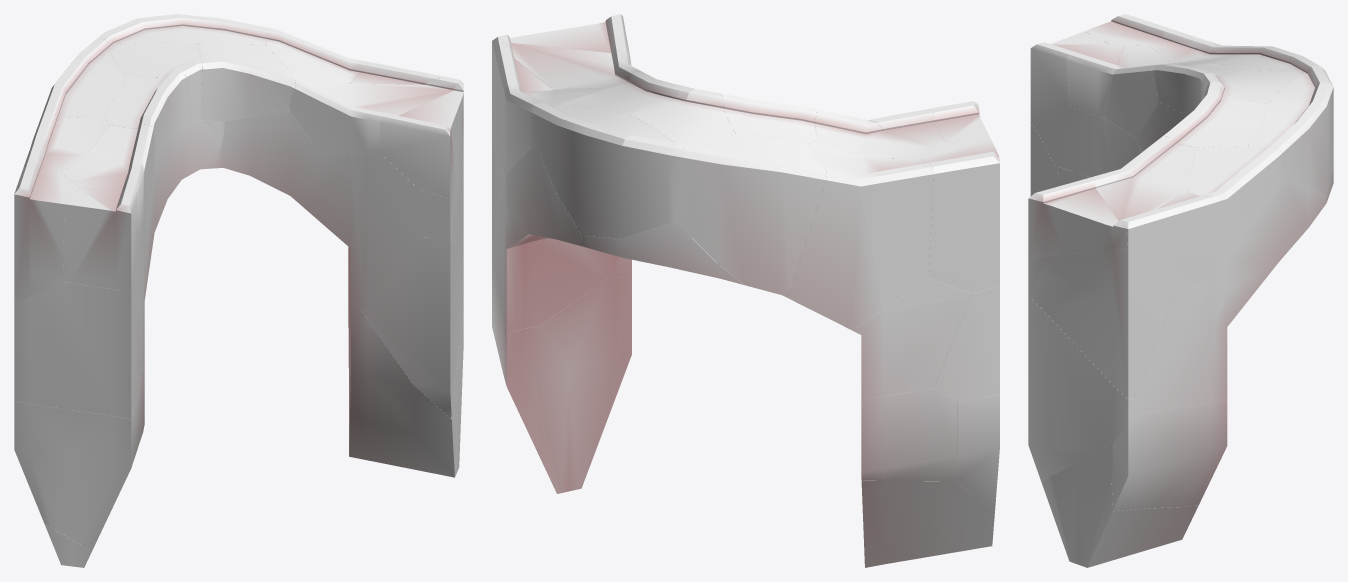
Rendered from BridgeCurveShattered.fbx.
The picture shows the model from 3 angles, left to right: view 1: azimuth 30°, elevation 25°; view 2: azimuth 150°, elevation 25°; view 3: azimuth 270°, elevation 25°; orthographic projection. The views are drawn at different scales.
Parts seen in each view (by area): view 1: bridge_cruve.001_cell.009, bridge_cruve.001_cell.026, bridge_cruve.001_cell.010, bridge_cruve.001_cell.021, bridge_cruve.001_cell.020, bridge_cruve.001_cell.012, bridge_cruve.001_cell.025, bridge_cruve.001_cell.007, bridge_cruve.001_cell.006, bridge_cruve.001_cell.015, bridge_cruve.001_cell, bridge_cruve.001_cell.013 (+14 smaller); view 2: bridge_cruve.001_cell.022, bridge_cruve.001_cell.011, bridge_cruve.001_cell.029, bridge_cruve.001_cell.010, bridge_cruve.001_cell.006, bridge_cruve.001_cell.032, bridge_cruve.001_cell.028, bridge_cruve.001_cell.023, bridge_cruve.001_cell.003, bridge_cruve.001_cell.009, bridge_cruve.001_cell.004, bridge_cruve.001_cell.012 (+15 smaller); view 3: bridge_cruve.001_cell.031, bridge_cruve.001_cell.021, bridge_cruve.001_cell.005, bridge_cruve.001_cell.010, bridge_cruve.001_cell.008, bridge_cruve.001_cell.003, bridge_cruve.001_cell.029, bridge_cruve.001_cell.018, bridge_cruve.001_cell, bridge_cruve.001_cell.004, bridge_cruve.001_cell.012, bridge_cruve.001_cell.027 (+12 smaller).
Part boxes in pixels (x1,y1,x2,y2): bridge_cruve.001_cell.009: [14, 282, 140, 419]; bridge_cruve.001_cell.026: [14, 400, 137, 550]; bridge_cruve.001_cell.010: [348, 287, 463, 477]; bridge_cruve.001_cell.021: [361, 238, 463, 418]; bridge_cruve.001_cell.020: [307, 153, 423, 309]; bridge_cruve.001_cell.012: [288, 73, 463, 155]; bridge_cruve.001_cell.025: [63, 187, 138, 292]; bridge_cruve.001_cell.007: [217, 108, 321, 209]; bridge_cruve.001_cell.006: [14, 163, 78, 303]; bridge_cruve.001_cell.015: [198, 43, 295, 122]; bridge_cruve.001_cell: [380, 82, 463, 198]; bridge_cruve.001_cell.013: [105, 72, 191, 153]; bridge_cruve.001_cell.022: [787, 141, 933, 329]; bridge_cruve.001_cell.011: [674, 134, 826, 297]; bridge_cruve.001_cell.029: [532, 103, 685, 238]; bridge_cruve.001_cell.010: [538, 276, 631, 493]; bridge_cruve.001_cell.006: [921, 139, 999, 293]; bridge_cruve.001_cell.032: [861, 480, 994, 567]; bridge_cruve.001_cell.028: [861, 388, 957, 481]; bridge_cruve.001_cell.023: [851, 295, 970, 400]; bridge_cruve.001_cell.003: [493, 163, 612, 330]; bridge_cruve.001_cell.009: [934, 285, 999, 401]; bridge_cruve.001_cell.004: [504, 146, 583, 246]; bridge_cruve.001_cell.012: [496, 35, 639, 89]; bridge_cruve.001_cell.031: [1028, 248, 1174, 399]; bridge_cruve.001_cell.021: [1028, 296, 1133, 482]; bridge_cruve.001_cell.005: [1111, 400, 1227, 510]; bridge_cruve.001_cell.010: [1041, 444, 1198, 567]; bridge_cruve.001_cell.008: [1186, 145, 1285, 278]; bridge_cruve.001_cell.003: [1133, 280, 1212, 415]; bridge_cruve.001_cell.029: [1257, 64, 1333, 195]; bridge_cruve.001_cell.018: [1126, 190, 1211, 295]; bridge_cruve.001_cell: [1028, 177, 1124, 258]; bridge_cruve.001_cell.004: [1212, 177, 1325, 302]; bridge_cruve.001_cell.012: [1092, 136, 1196, 249]; bridge_cruve.001_cell.027: [1033, 106, 1141, 177].
Bounding box in the file's own units: 1507 × 1295 × 912.
